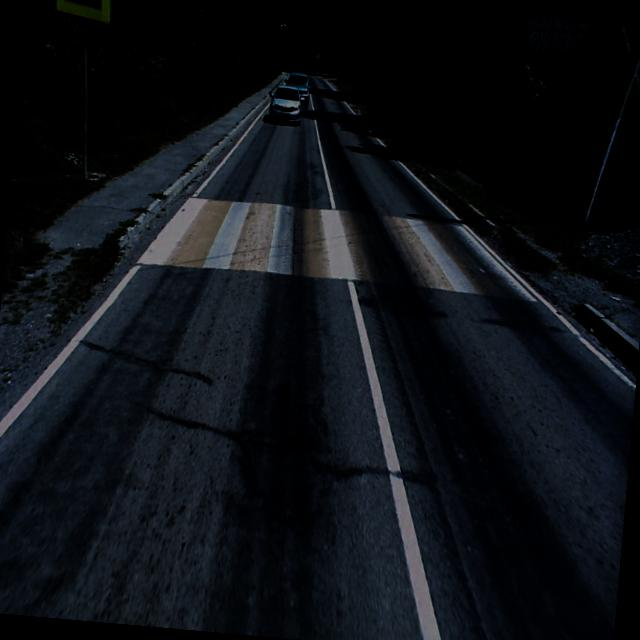road: (0, 75, 635, 640)
